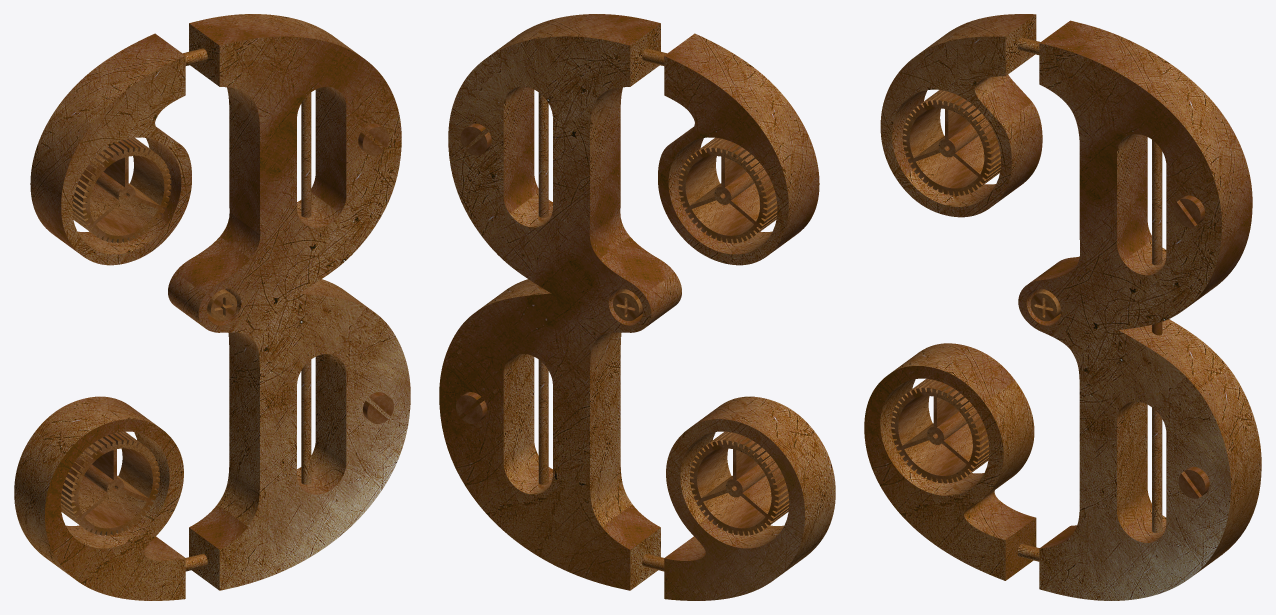
3 renders of one model, left to right at view 1: azimuth 30°, elevation 25°; view 2: azimuth 150°, elevation 25°; view 3: azimuth 330°, elevation 25°, orthographic.
Parts seen in each view (by area): view 1: 017, Cogwheel_353, Cogwheel_354, Tube_574, Screw_694, Screw_680, Screw_685; view 2: 017, Cogwheel_353, Cogwheel_354, Tube_574, Screw_694, Screw_680, Screw_685; view 3: 017, Cogwheel_353, Cogwheel_354, Tube_574, Screw_685, Screw_680, Screw_694.
Part boxes in pixels (x1,y1,x2,y2): 017: (14,14,410,600); Cogwheel_353: (72,137,171,243); Cogwheel_354: (60,431,159,535); Tube_574: (301,92,311,484); Screw_694: (207,289,236,321); Screw_680: (358,123,389,155); Screw_685: (363,392,393,423); 017: (439,14,835,600); Cogwheel_353: (678,137,777,243); Cogwheel_354: (690,431,789,535); Tube_574: (538,92,548,484); Screw_694: (613,289,642,320); Screw_680: (460,123,491,155); Screw_685: (456,392,486,423); 017: (864,14,1261,600); Cogwheel_353: (902,90,1000,195); Cogwheel_354: (891,378,989,483); Tube_574: (1152,140,1162,532); Screw_685: (1178,466,1209,498); Screw_680: (1174,195,1205,227); Screw_694: (1030,289,1060,321).
Bounding box in the file's own units: 68.85 × 98.09 × 12.89.
1 material, 1 textured.
